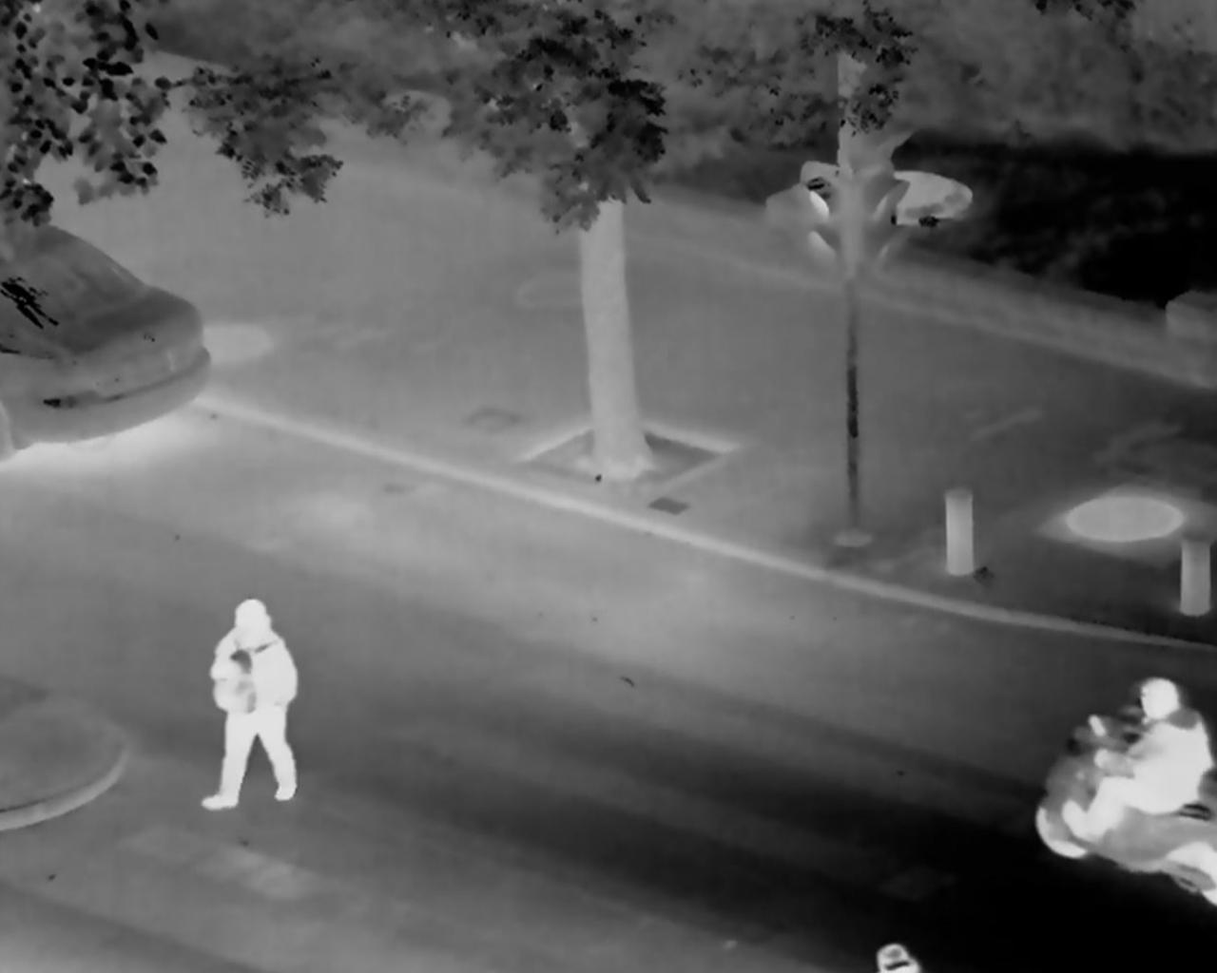person: (194, 589, 325, 815), (1076, 660, 1209, 868)
